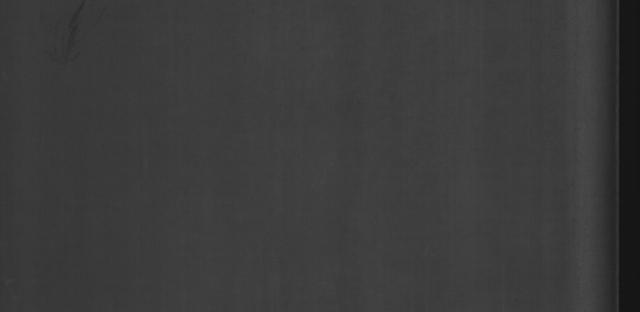water_spot: (43, 0, 114, 71)
